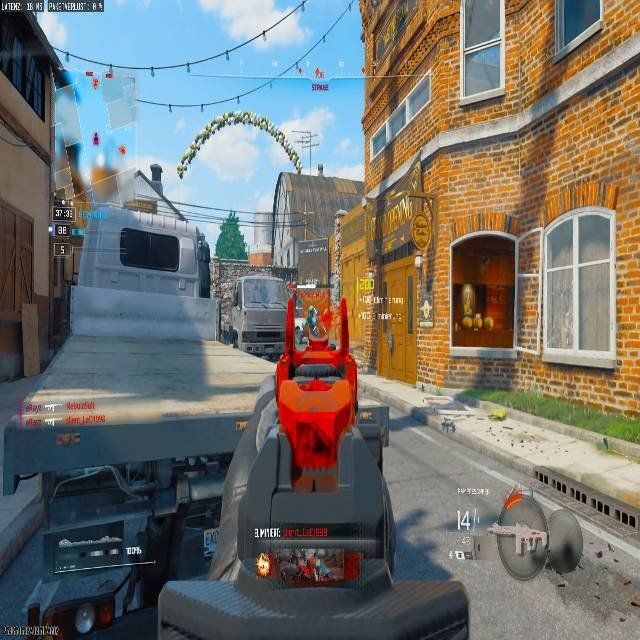player: (216, 276, 241, 345), (300, 303, 323, 348), (305, 305, 319, 337)
